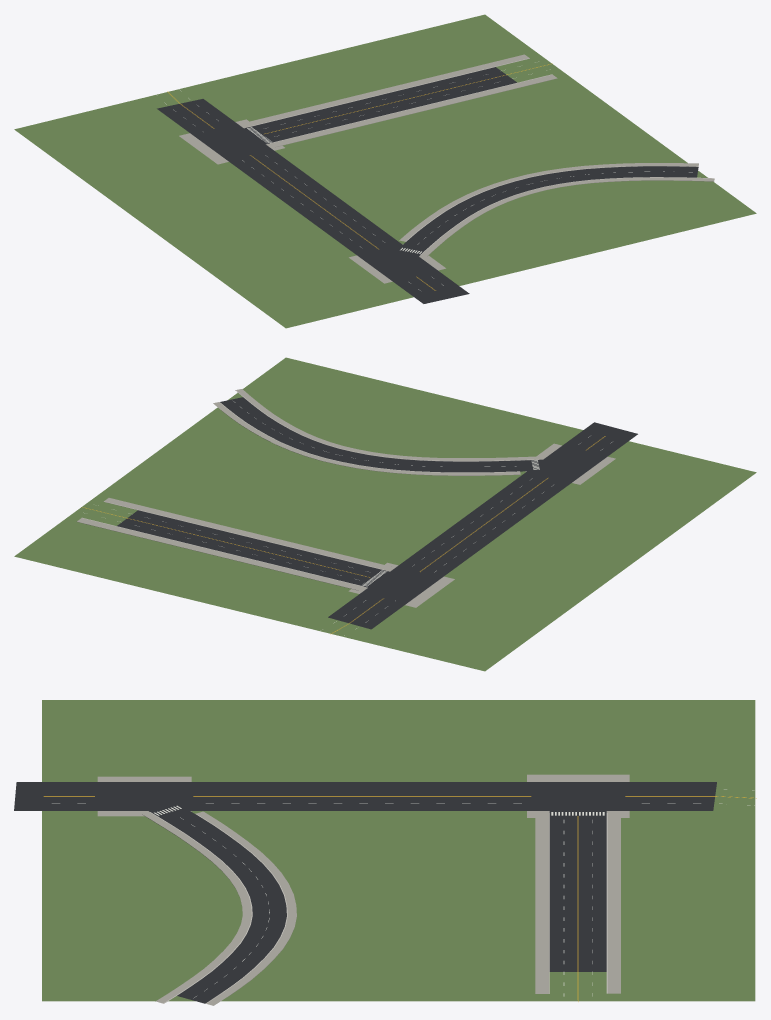
Rendered from Ground_0_6.fbx.
The picture shows the model from 3 angles, top to bottom: view 1: azimuth 30°, elevation 25°; view 2: azimuth 150°, elevation 25°; view 3: azimuth 270°, elevation 25°; orthographic projection. The views are drawn at different scales.
Parts seen in each view (by area): view 1: Ground_0_6; view 2: Ground_0_6; view 3: Ground_0_6.
Part boxes in pixels (<box>): Ground_0_6: <box>14,14,756,328</box>; Ground_0_6: <box>14,357,756,671</box>; Ground_0_6: <box>14,700,756,1005</box>.
Size of the model in its own units: 254 by 0.14 by 260.
